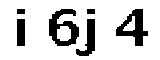4: (112, 7, 150, 52)
6: (44, 3, 80, 47)
i: (12, 6, 32, 48)
j: (80, 9, 103, 60)
